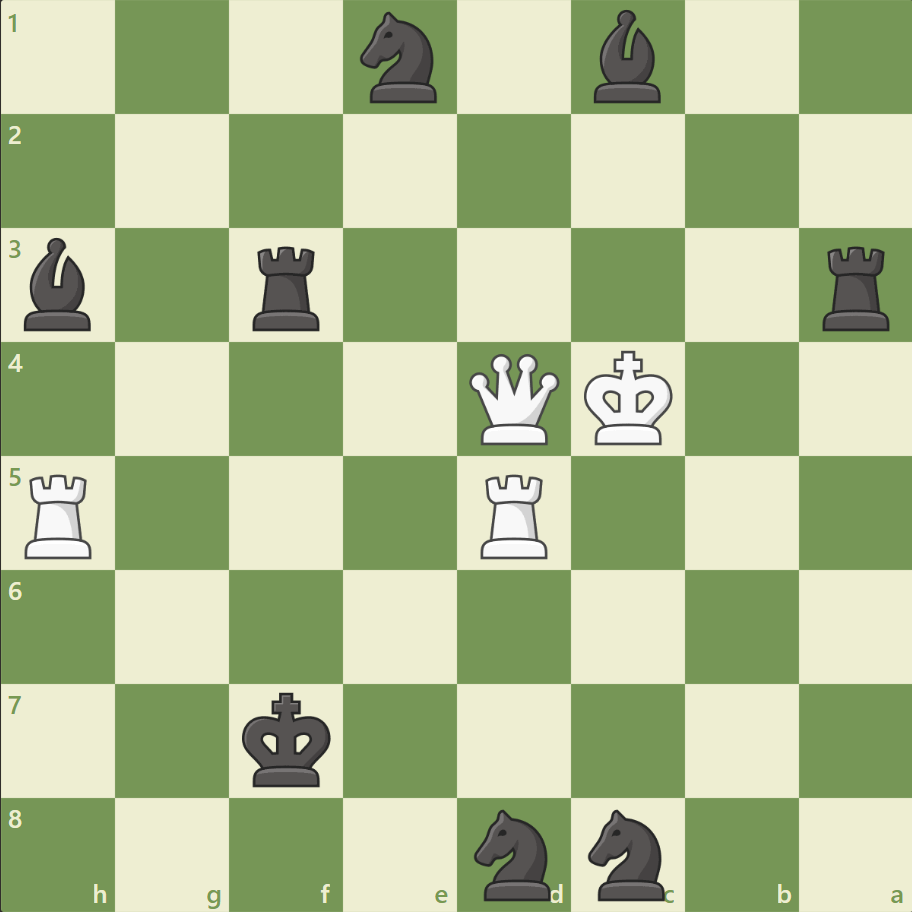K: (579, 344, 679, 452)
Q: (464, 349, 563, 449)
R: (473, 466, 556, 563), (19, 466, 102, 563)
b: (17, 233, 101, 336), (585, 6, 669, 109)
k: (238, 685, 338, 793)
n: (351, 7, 449, 110), (579, 802, 676, 904), (465, 802, 562, 904)
r: (814, 239, 897, 336), (246, 239, 329, 336)
